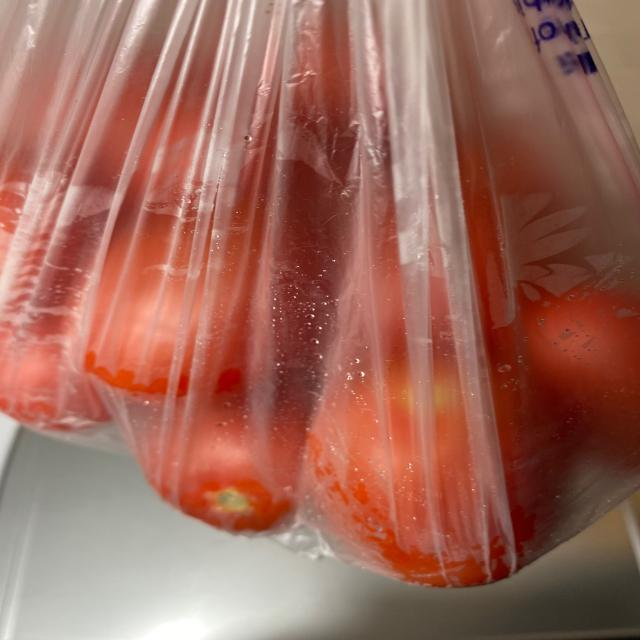tomato: (0, 62, 634, 580)
